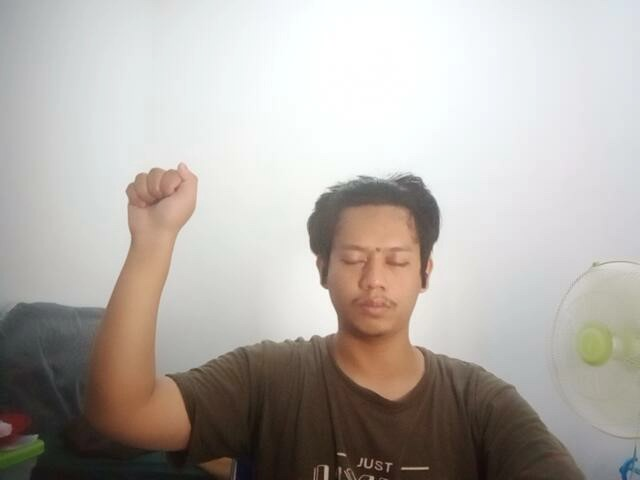A: (111, 155, 214, 237)
